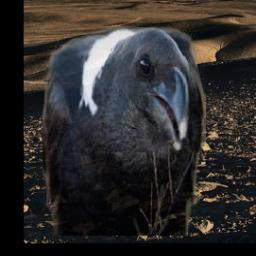Crow: (42, 24, 205, 236)
